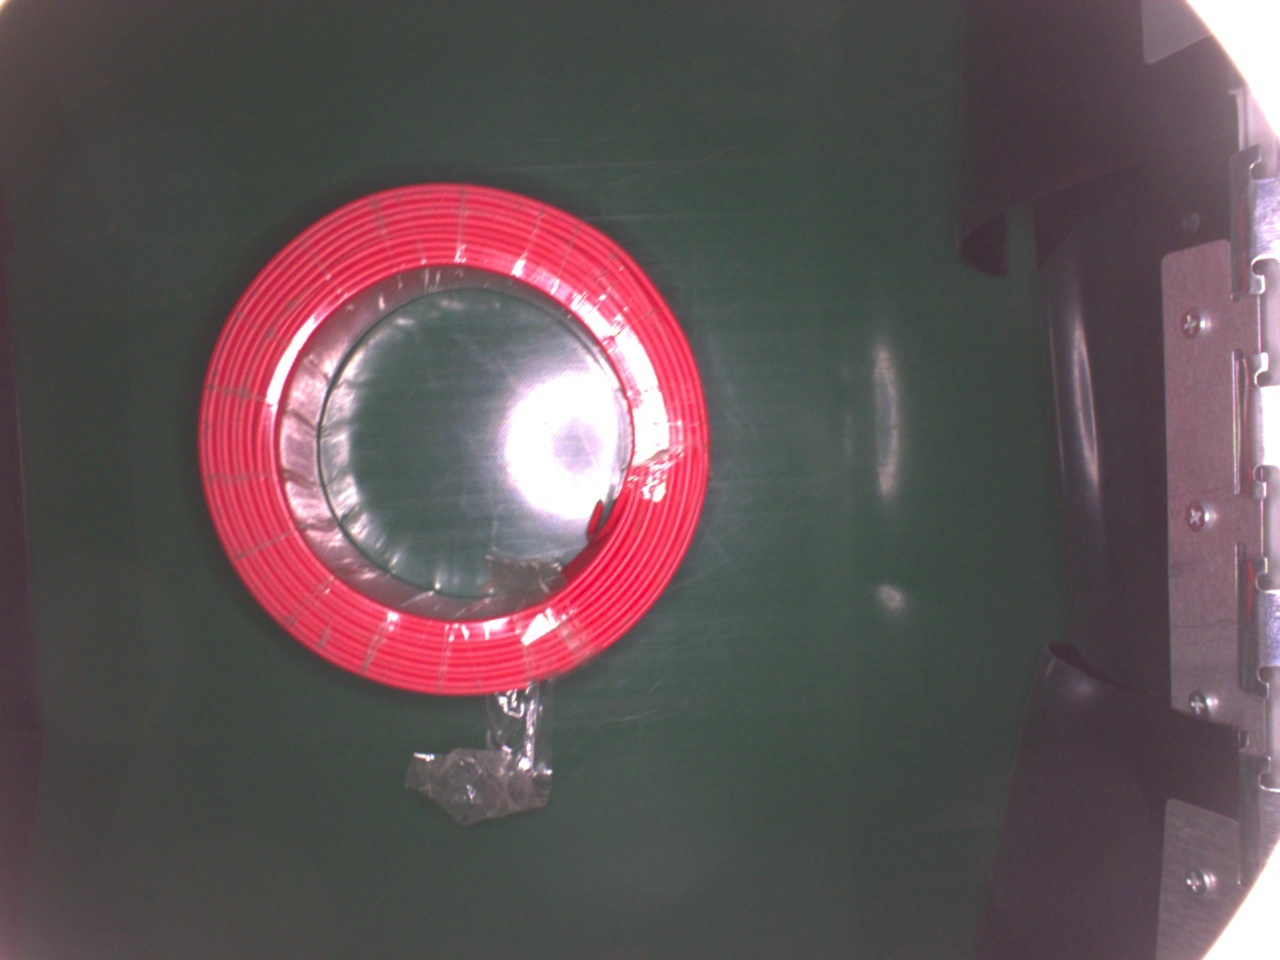red: (197, 179, 709, 694)
